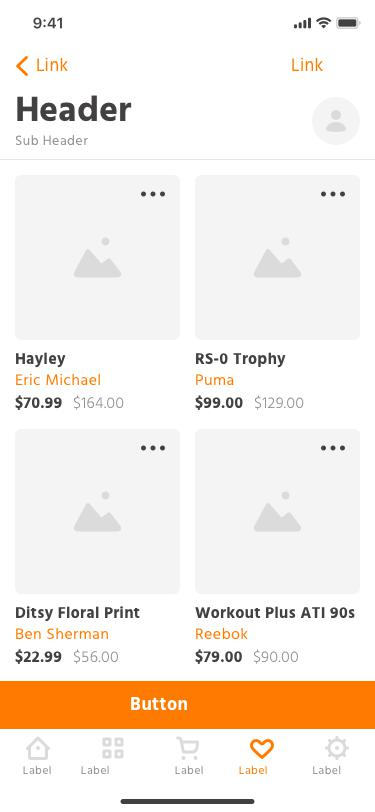Icon: (311, 97, 360, 146), (26, 736, 51, 760), (324, 736, 349, 760), (176, 736, 200, 760), (103, 736, 125, 759), (250, 739, 274, 760), (16, 57, 31, 78), (320, 191, 347, 198), (320, 445, 346, 452), (141, 445, 166, 452), (142, 191, 166, 198)
Image: (195, 176, 361, 341), (195, 429, 360, 595), (16, 429, 181, 594), (16, 176, 180, 341)
Text: (15, 96, 132, 122), (195, 606, 356, 620), (16, 606, 141, 621), (196, 351, 286, 367), (16, 628, 110, 641), (15, 373, 102, 386), (16, 134, 90, 147), (16, 352, 67, 368), (194, 395, 243, 411), (196, 627, 248, 642), (73, 396, 126, 410), (194, 650, 243, 665), (15, 395, 63, 410), (74, 649, 119, 665), (15, 649, 62, 664), (252, 650, 299, 665), (254, 397, 303, 410), (195, 373, 237, 387), (291, 57, 323, 73), (37, 58, 69, 72), (23, 764, 53, 775), (81, 764, 111, 775), (312, 765, 342, 776), (174, 765, 205, 775), (239, 765, 269, 775)
TextButton: (1, 681, 375, 729)
UpperTaskBar: (33, 17, 361, 30)
